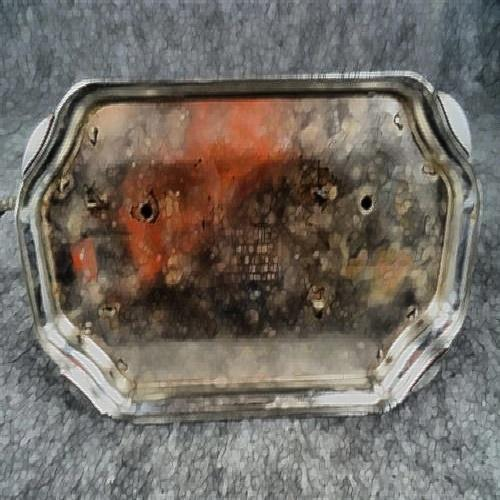toaster: (41, 90, 468, 414)
